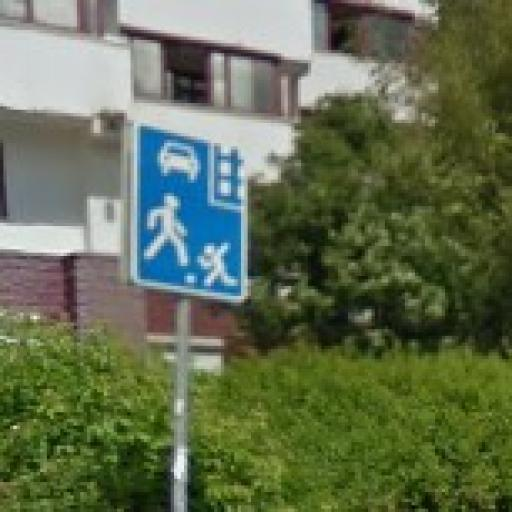traffic_sign: (131, 117, 252, 307)
